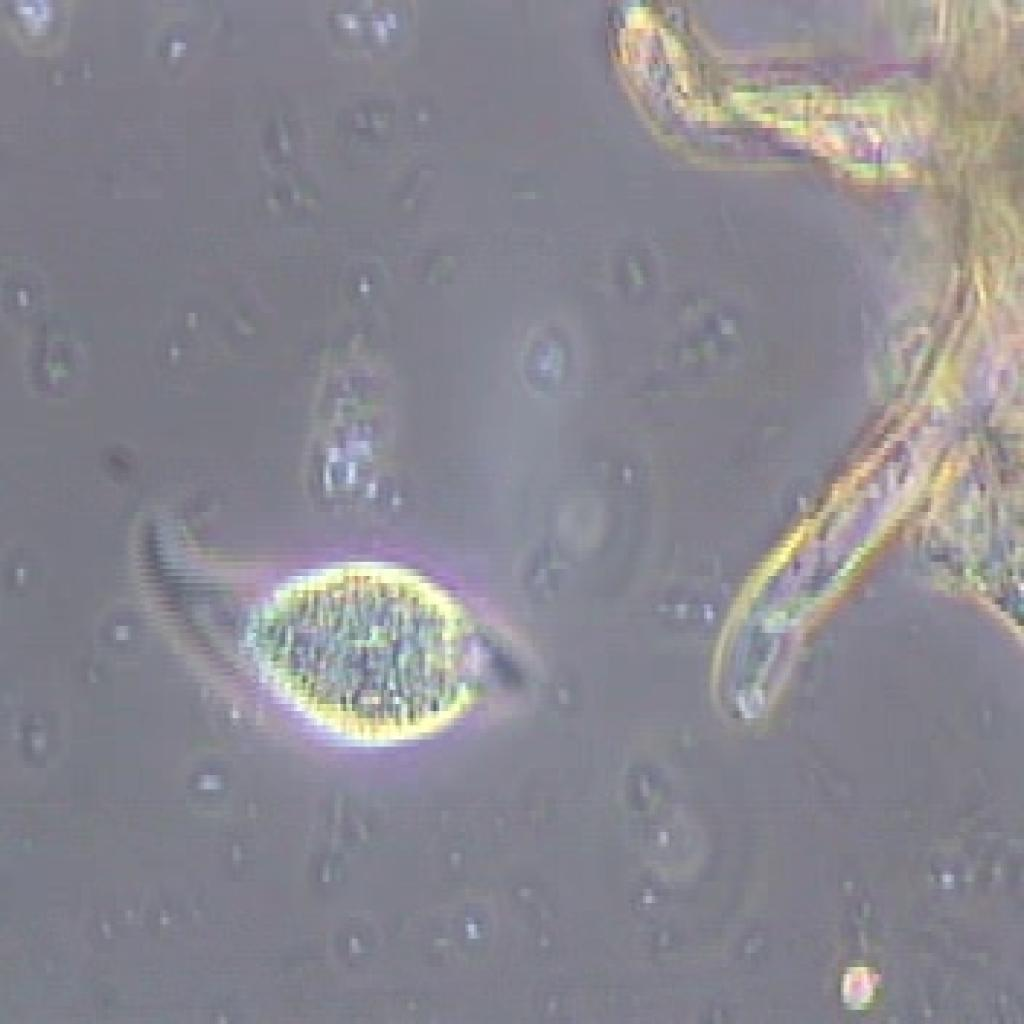Pristina: (90, 468, 570, 770)
